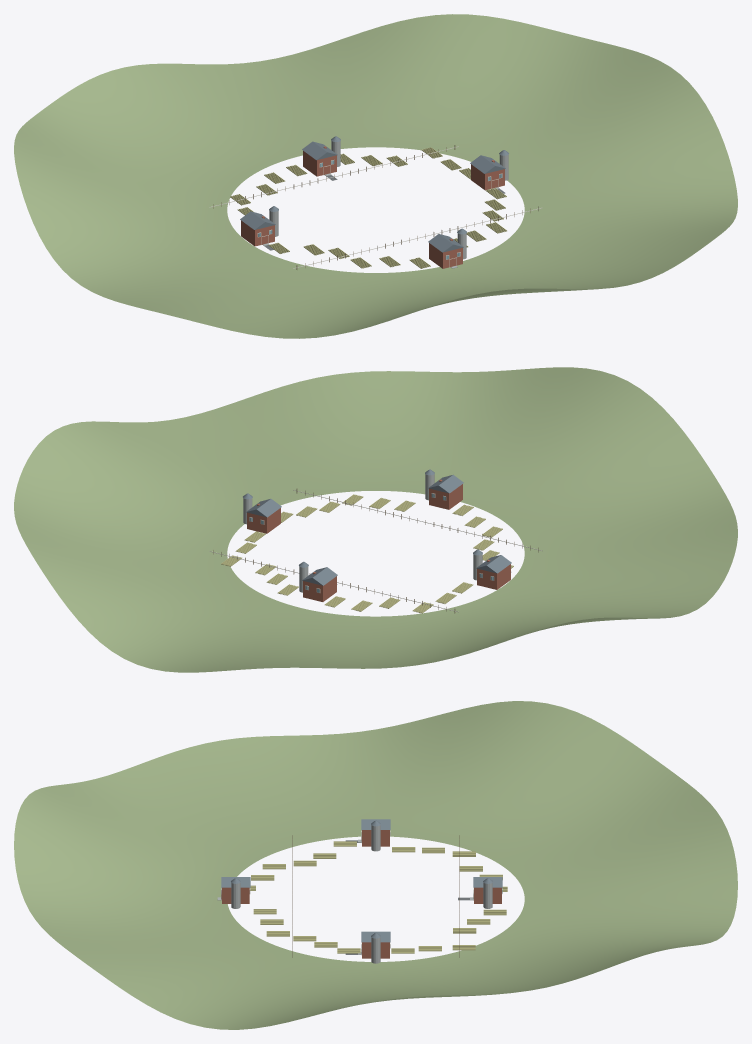
Rendered from backdrop-farm.glb.
3 renders of one model, top to bottom at view 1: azimuth 30°, elevation 25°; view 2: azimuth 150°, elevation 25°; view 3: azimuth 270°, elevation 25°, orthographic.
Parts seen in each view (by area): view 1: grass, field, brick, roof, trim, stone; view 2: grass, field, brick, roof, trim, stone; view 3: grass, field, brick, roof, stone.
Boxes of the visible parts, x1=… form: grass: x1=14, y1=14, x2=737, y2=338; field: x1=230, y1=147, x2=506, y2=268; brick: x1=241, y1=146, x2=504, y2=268; roof: x1=240, y1=136, x2=508, y2=252; trim: x1=209, y1=146, x2=542, y2=268; stone: x1=263, y1=141, x2=508, y2=268; grass: x1=14, y1=367, x2=737, y2=672; field: x1=221, y1=494, x2=513, y2=613; brick: x1=247, y1=479, x2=510, y2=601; roof: x1=243, y1=469, x2=511, y2=585; trim: x1=209, y1=490, x2=542, y2=612; stone: x1=243, y1=474, x2=482, y2=592; grass: x1=14, y1=701, x2=737, y2=1029; field: x1=250, y1=841, x2=507, y2=953; brick: x1=221, y1=830, x2=501, y2=958; roof: x1=221, y1=819, x2=502, y2=942; stone: x1=217, y1=825, x2=492, y2=963.
Bounding box in the file's own units: 156 × 15.07 × 156.
